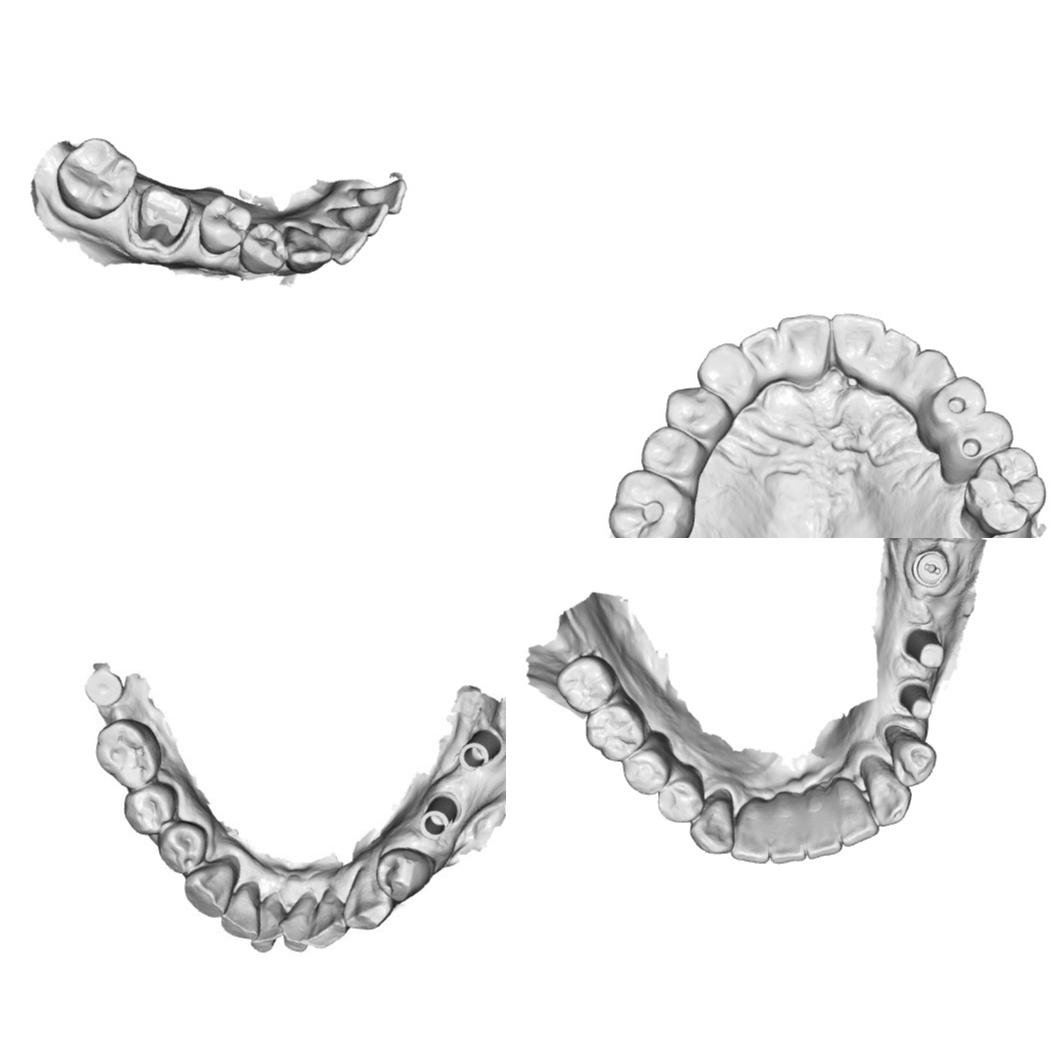abutment: (900, 625, 948, 671), (895, 679, 934, 721)
canine: (694, 341, 759, 402), (858, 754, 912, 827), (342, 863, 395, 931), (184, 855, 239, 918), (688, 786, 734, 854), (903, 348, 958, 402), (283, 223, 333, 275)
crown: (131, 181, 196, 251)
implant: (419, 791, 466, 842), (459, 732, 498, 775), (84, 667, 124, 707)
implant_minus: (909, 547, 951, 588)
incisor: (774, 312, 834, 386), (829, 312, 888, 378), (832, 776, 879, 846), (767, 790, 808, 865), (309, 884, 353, 951), (803, 788, 842, 859), (731, 796, 771, 865), (737, 324, 782, 385), (218, 883, 264, 939), (876, 327, 922, 382), (279, 893, 317, 954), (316, 225, 370, 266), (252, 892, 286, 954), (352, 178, 406, 216), (334, 201, 390, 235)
molar: (960, 444, 1048, 536), (55, 133, 138, 220), (606, 467, 697, 538), (95, 715, 163, 791), (584, 698, 646, 765), (555, 653, 620, 714)
premolar: (664, 385, 735, 443), (948, 409, 1015, 469), (638, 424, 706, 482), (922, 374, 988, 432), (196, 193, 252, 258), (621, 729, 673, 795), (373, 844, 431, 901), (884, 724, 937, 786), (656, 764, 706, 823), (238, 220, 286, 275), (157, 822, 204, 874), (124, 784, 171, 830)
